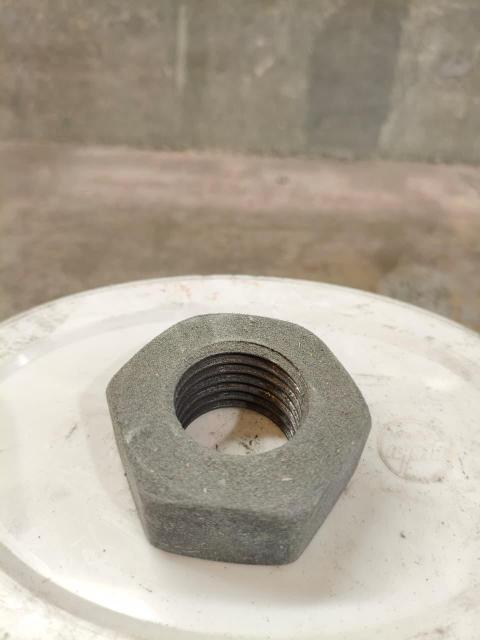Metal: (100, 308, 372, 560)
